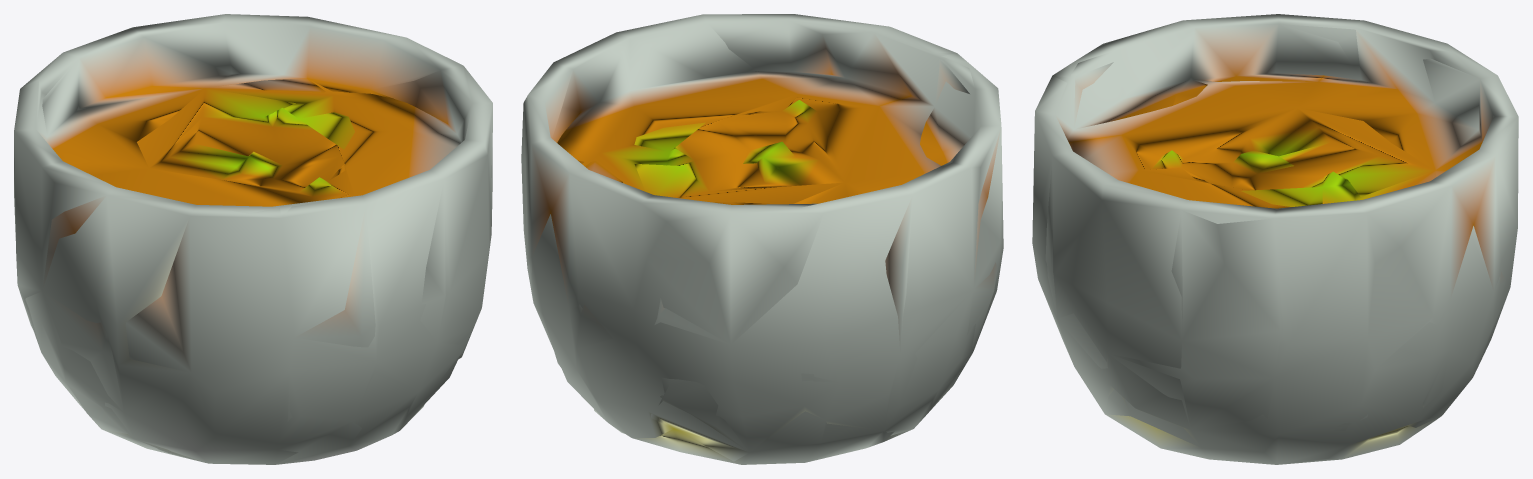
Rendered from gen3d-soup-lod1.glb.
The picture shows the model from 3 angles, left to right: view 1: azimuth 30°, elevation 25°; view 2: azimuth 150°, elevation 25°; view 3: azimuth 270°, elevation 25°; orthographic projection.
Parts seen in each view (by area): view 1: part_0; view 2: part_0; view 3: part_0.
Boxes of the visible parts, x1,y1,x2,y2 form: part_0: [14, 14, 492, 464]; part_0: [521, 14, 1003, 464]; part_0: [1032, 14, 1518, 464].
Size of the model in its own units: 1.55 by 0.9958 by 1.55.
